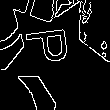P_E: (26, 30, 80, 73)
